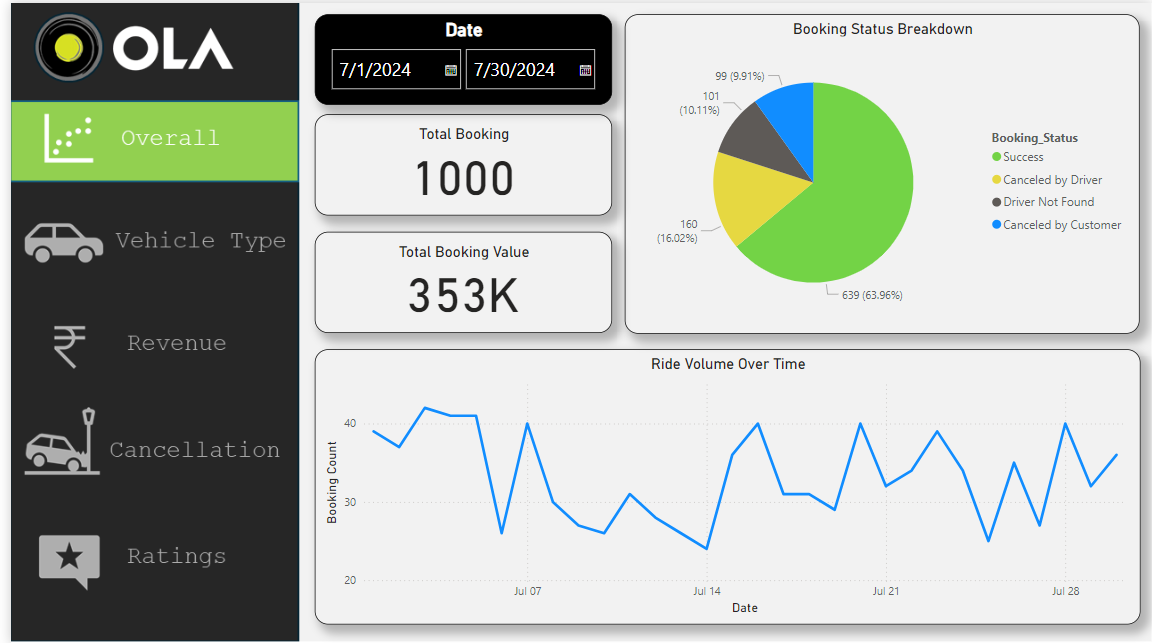

This screenshot's page, from the dashboard's own definition file:
{"tool":"powerbi","page":{"name":"Overall","canvas":[1280,720],"ordinal":0},"visuals":[{"type":"actionButton","box":[0,200,324.3,122.9],"z":0},{"type":"actionButton","box":[0,322.9,324.3,120],"z":1000},{"type":"actionButton","box":[0,442.9,324.3,124.3],"z":2000},{"type":"actionButton","box":[0,567.1,324.3,130],"z":3000},{"type":"lineChart","title":"Ride Volume Over Time ","fields":{"Y":["CountNonNull(booking 1000 line.Booking_ID)"],"Category":["booking 1000 line.Date"]},"box":[340.3,388.3,926.2,308.7],"z":4000},{"type":"pieChart","title":"Booking Status Breakdown ","fields":{"Category":["booking 1000 line.Booking_Status"],"Y":["CountNonNull(booking 1000 line.Booking_Status)"]},"box":[688.9,12.3,577.7,358.1],"z":5000},{"type":"slicer","title":"Date","fields":{"Values":["booking 1000 line.Date"]},"box":[340.3,12.3,333.4,101.5],"z":6000},{"type":"card","title":"Total Booking","fields":{"Values":["Count(booking 1000 line.Booking_ID)"]},"box":[340.3,124.9,333.4,113.9],"z":7000},{"type":"card","title":"Total Booking Value","fields":{"Values":["Sum(booking 1000 line.Booking_Value)"]},"box":[340.3,256.6,333.4,113.9],"z":8000}]}

Visuals, with their boxes in screenshot pixels (x1, y1, x2, y2), scaled from the page's 1280x720 canvas onto the 1152x643 screenshot:
actionButton: locate(0, 179, 292, 288)
actionButton: locate(0, 288, 292, 396)
actionButton: locate(0, 396, 292, 507)
actionButton: locate(0, 506, 292, 623)
"Ride Volume Over Time " lineChart: locate(306, 347, 1140, 622)
"Booking Status Breakdown " pieChart: locate(620, 11, 1140, 331)
"Date" slicer: locate(306, 11, 606, 102)
"Total Booking" card: locate(306, 112, 606, 213)
"Total Booking Value" card: locate(306, 229, 606, 331)
